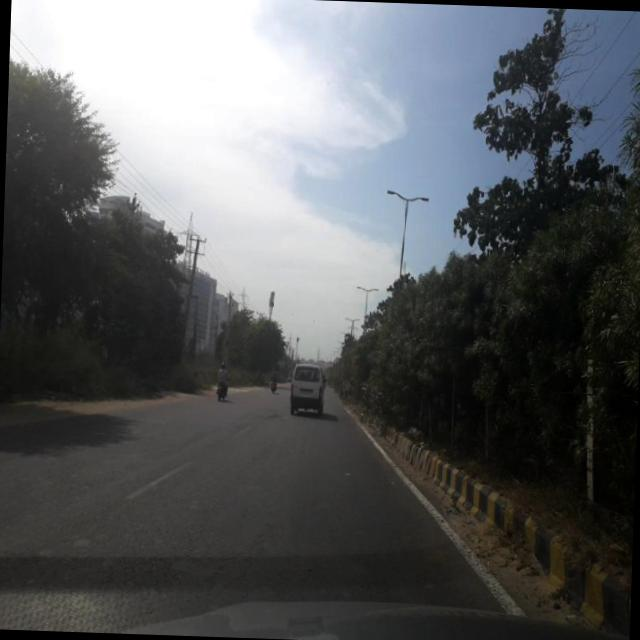crack: (0, 419, 477, 605)
